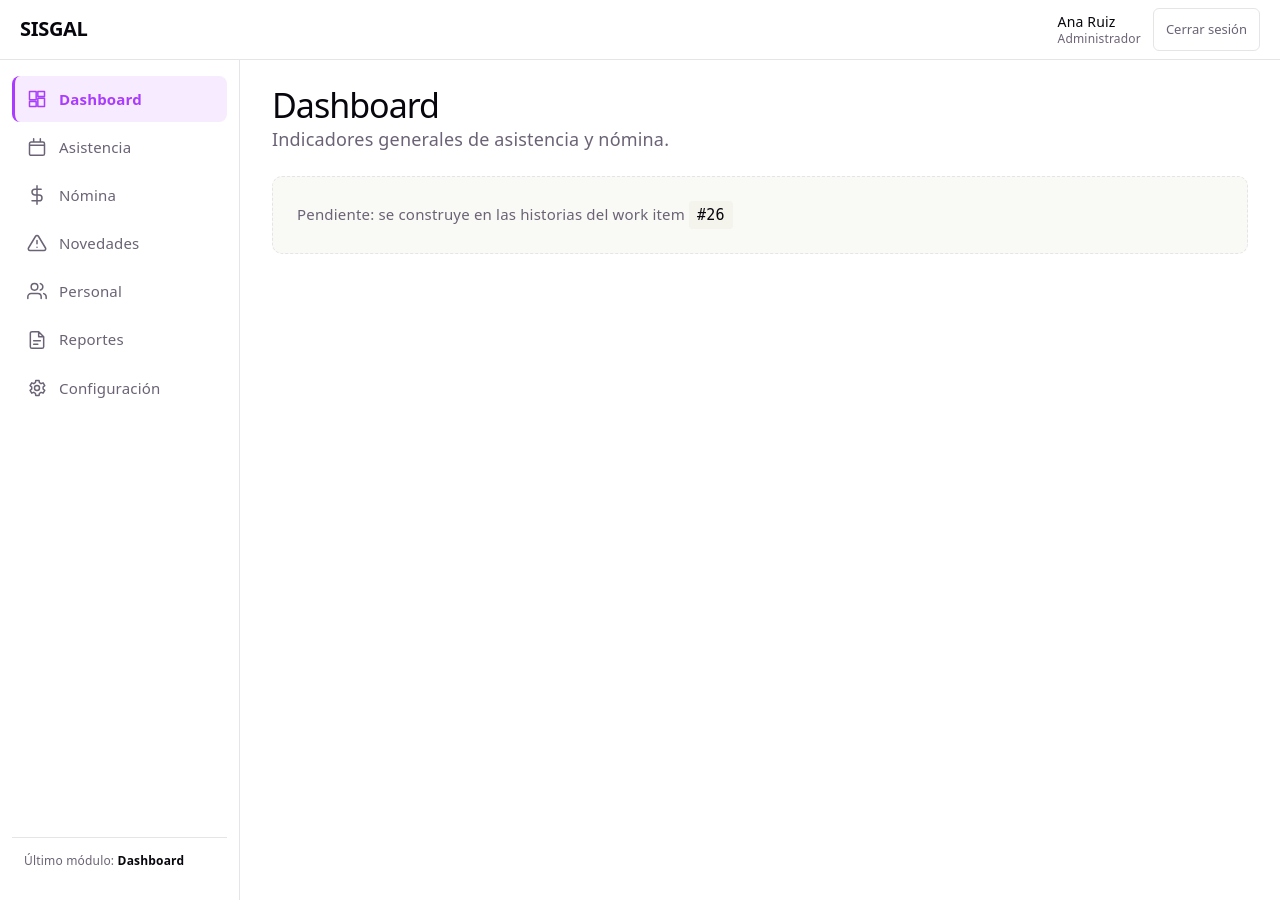
Test case: Navegación entre módulos › permite recorrer varios módulos seguidos
The width and height of the screenshot is (1280, 900).
Click the link "Asistencia" at (79, 147), box [27, 137, 131, 157]
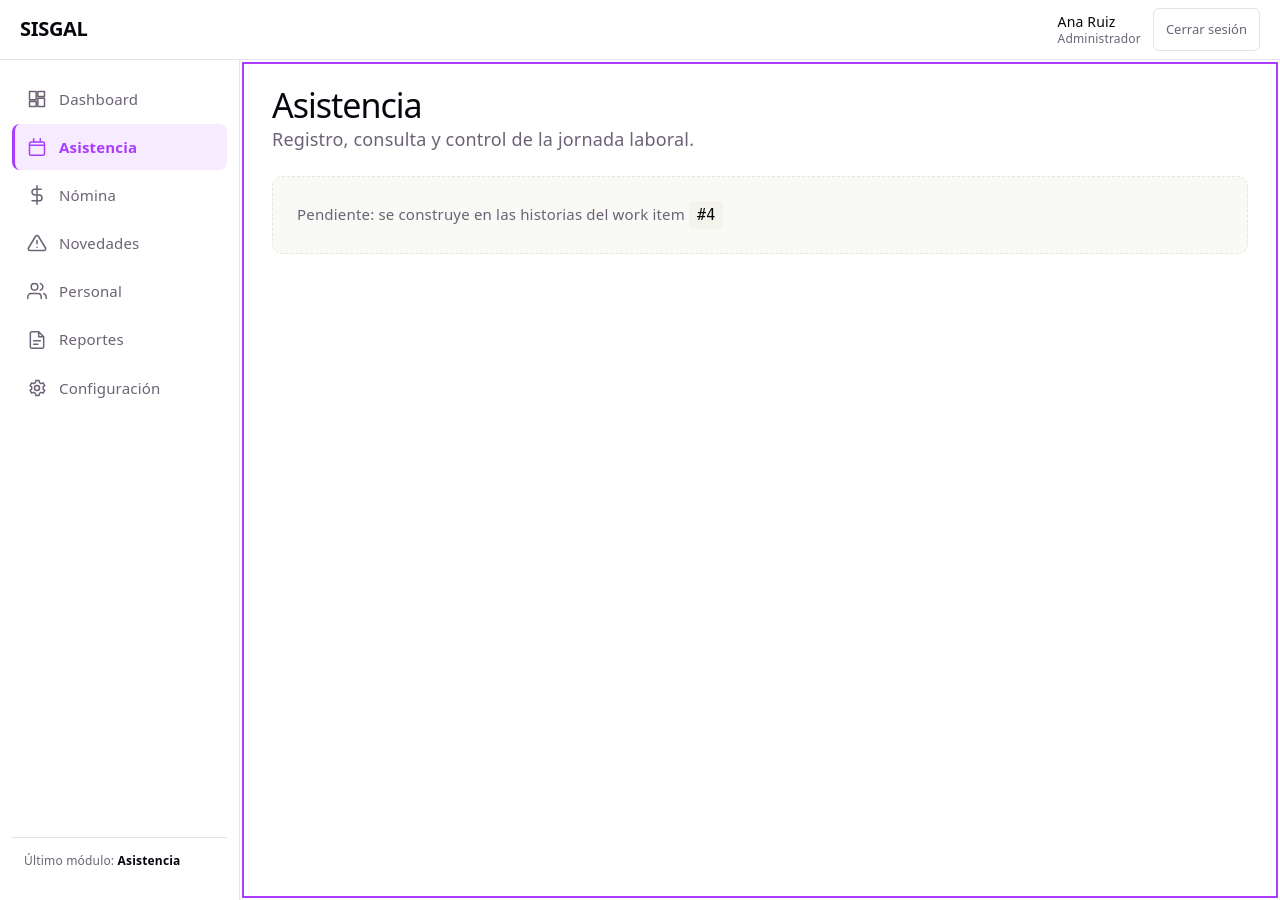
Expected: the heading reads "Asistencia", [272, 82, 422, 128]
Click the link "Personal" at (74, 291), box [27, 281, 122, 301]
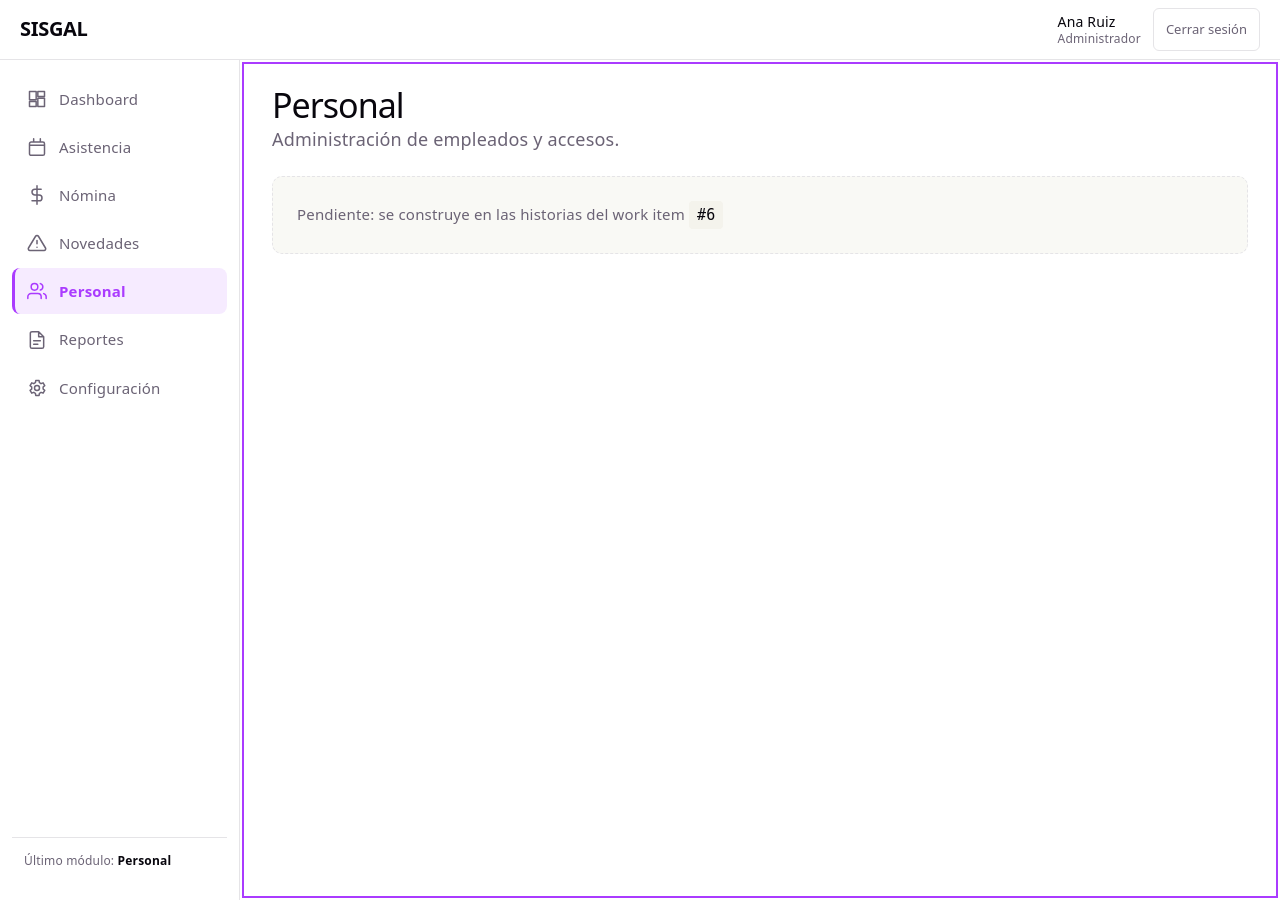
Expected: the heading reads "Personal", [272, 82, 404, 128]
Click the link "Configuración" at (94, 388), box [27, 378, 160, 398]
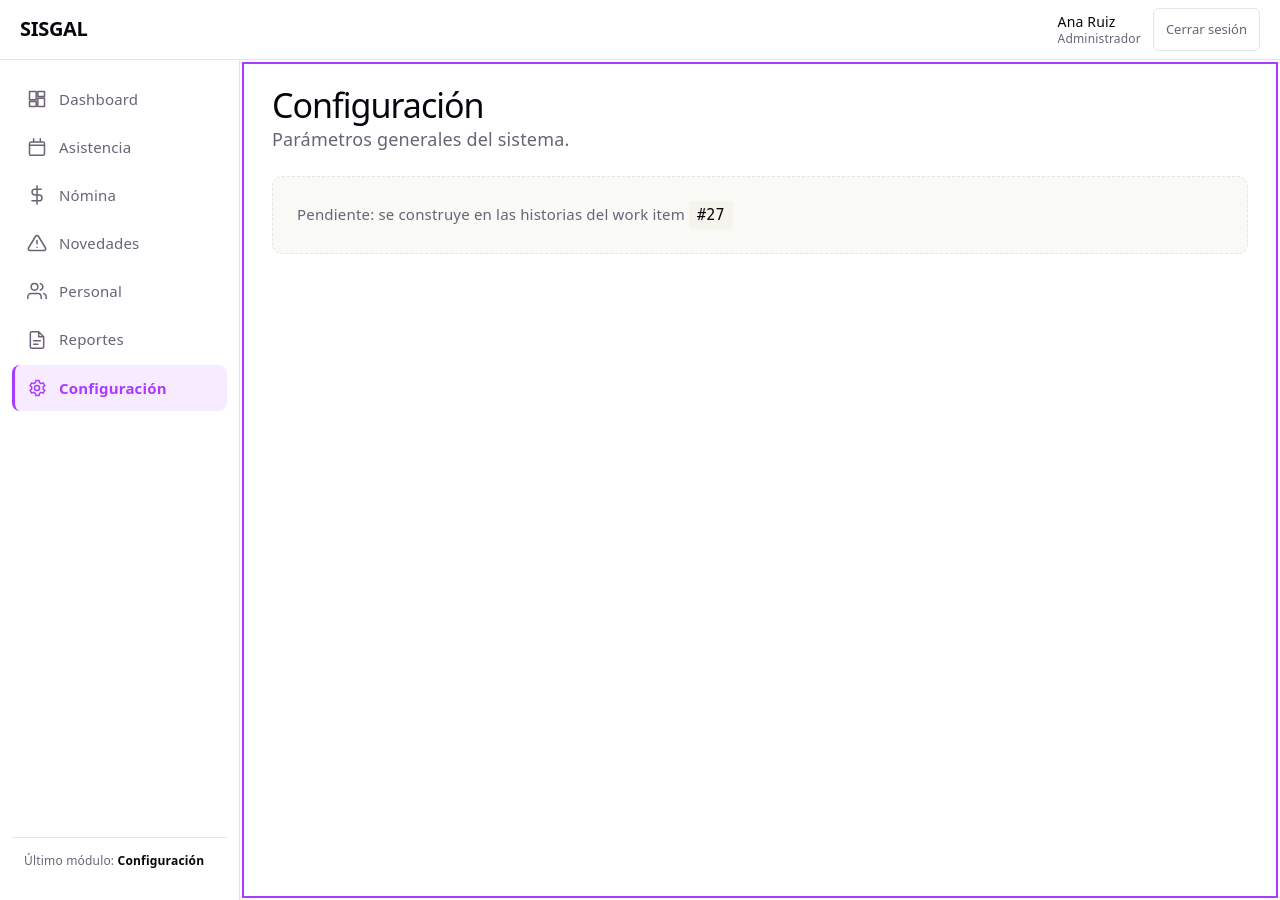
Expected: the heading reads "Configuración", [272, 82, 484, 128]
